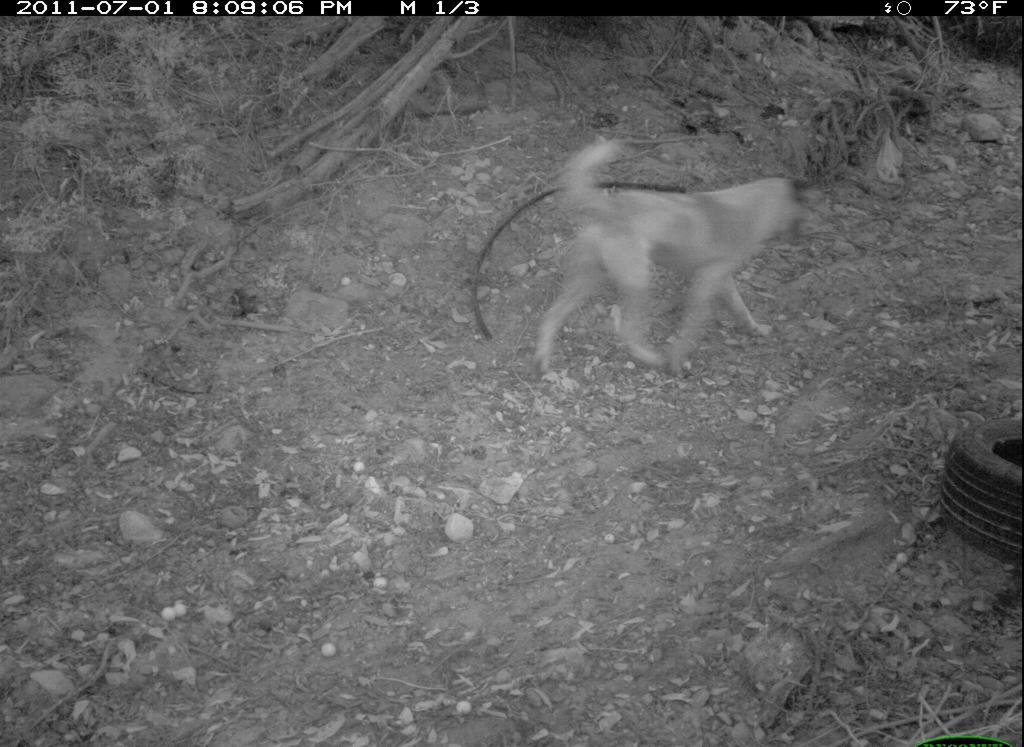dog: (519, 127, 835, 392)
